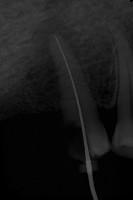Furcation Involvement: (30, 13, 80, 63)
